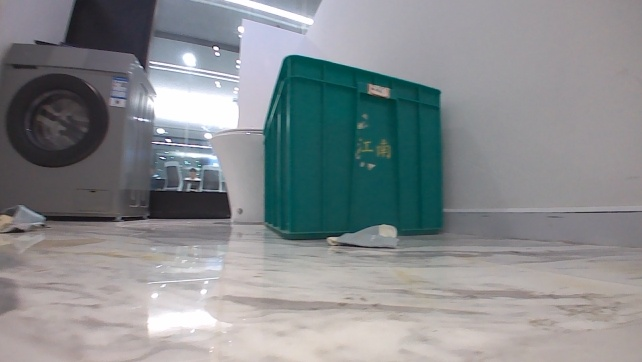socks: (325, 221, 401, 252), (0, 203, 50, 233)
toilet: (206, 127, 268, 228)
washing_machine: (0, 38, 157, 224)
